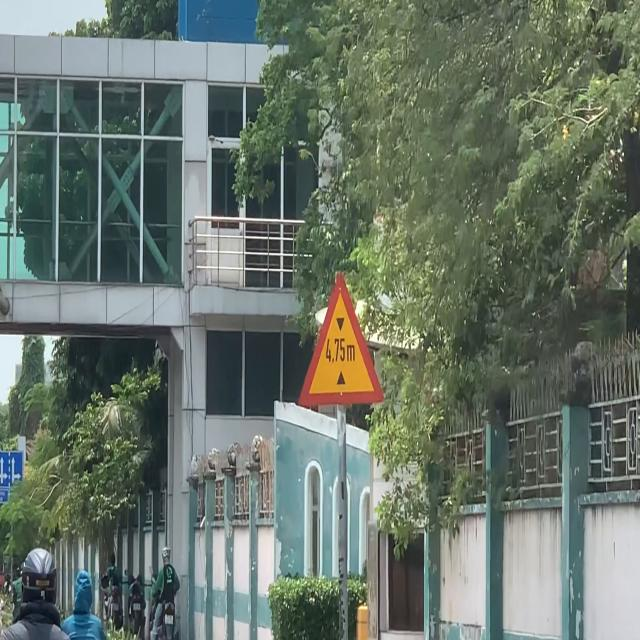Nguy hiem: (294, 266, 388, 411)
